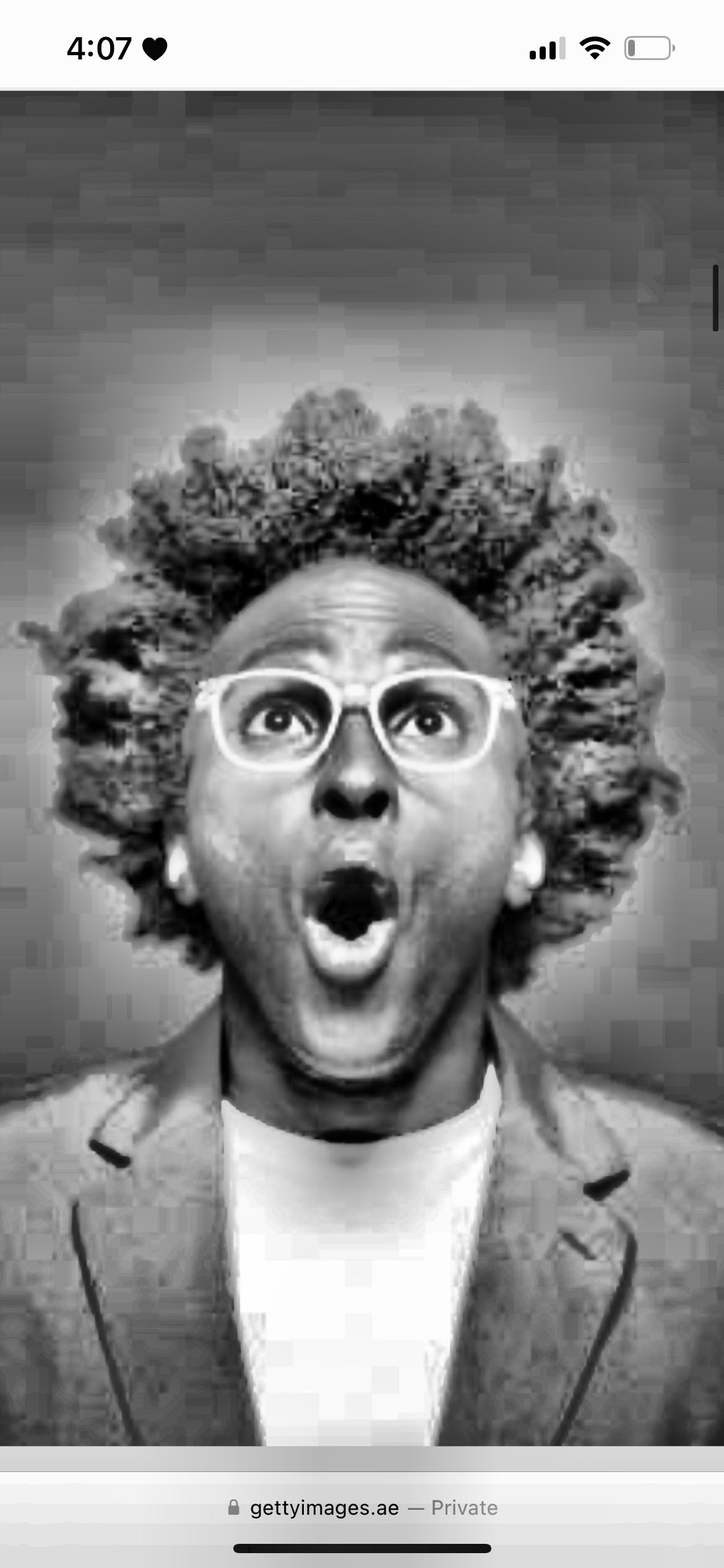surprised: (158, 542, 562, 1093)
